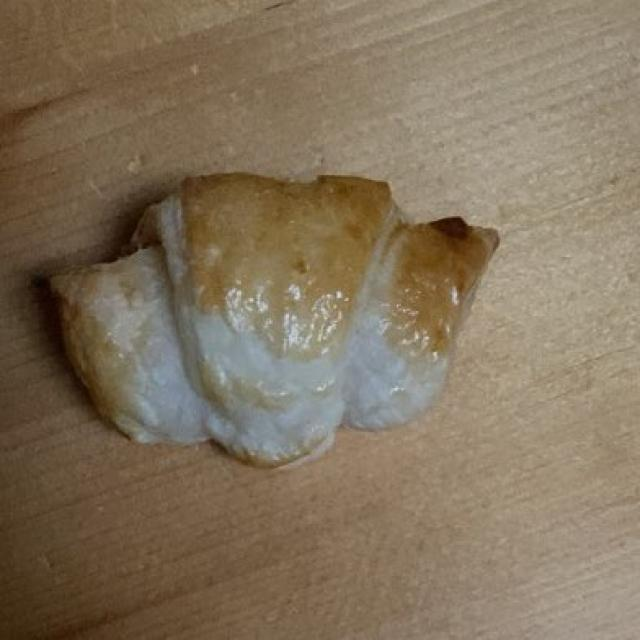croissant: (52, 184, 495, 478)
